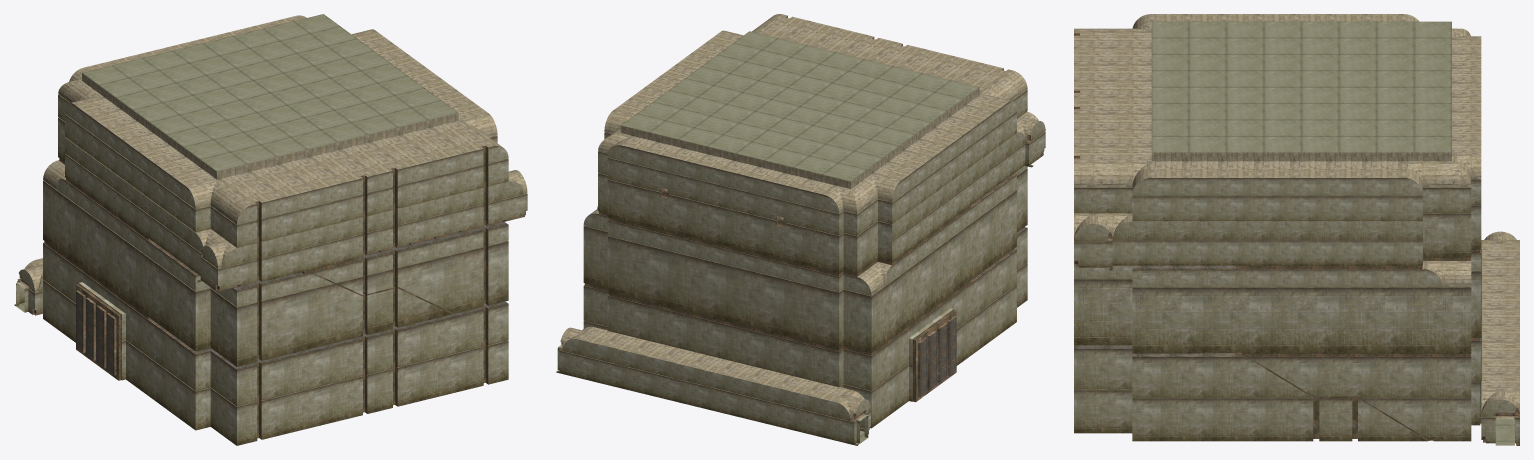
File: poi_all_bunker_allum_mine_r56_storageroom56_mesh_r56.fbx
3 views of the same model, side by side, from view 1: azimuth 30°, elevation 25°; view 2: azimuth 150°, elevation 25°; view 3: azimuth 270°, elevation 25° (orthographic). The views are drawn at different scales.
Parts seen in each view (by area): view 1: mesh_node; view 2: mesh_node; view 3: mesh_node.
Boxes of the visible parts, bbox=[...] form: mesh_node: bbox=[14, 14, 527, 445]; mesh_node: bbox=[556, 14, 1045, 445]; mesh_node: bbox=[1074, 14, 1519, 445].
Size of the model in its own units: 42.2 by 31.1 by 46.
